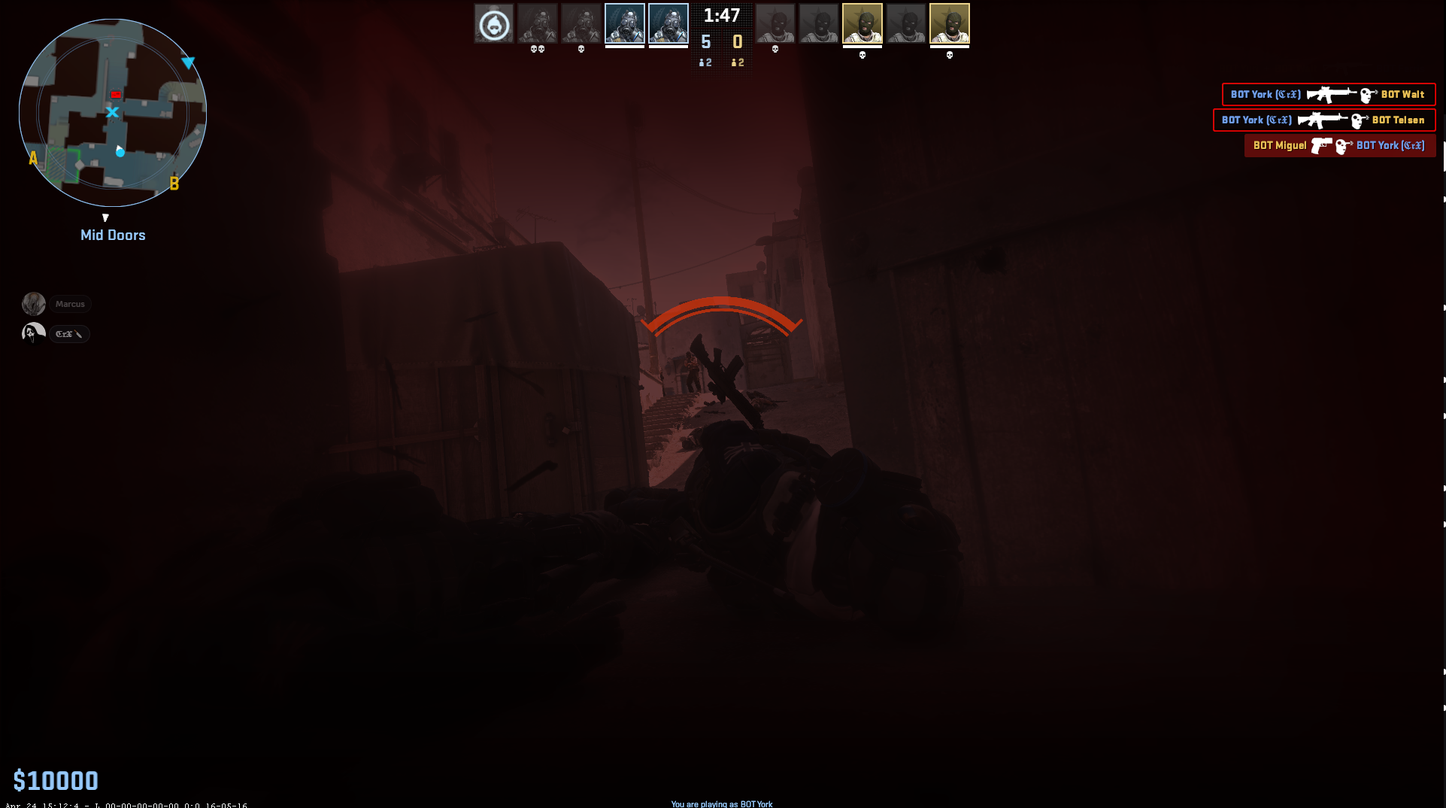T: (684, 351, 699, 393)
